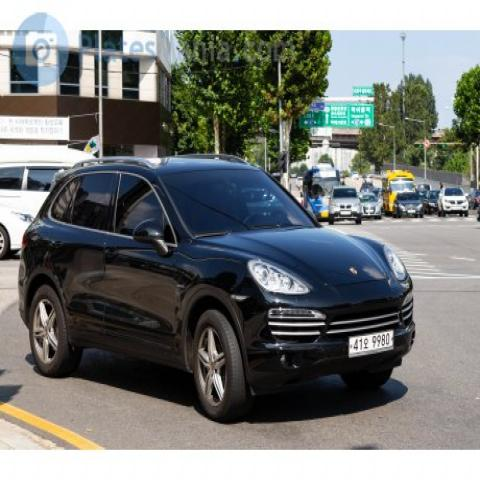LP: (345, 322, 402, 362)
